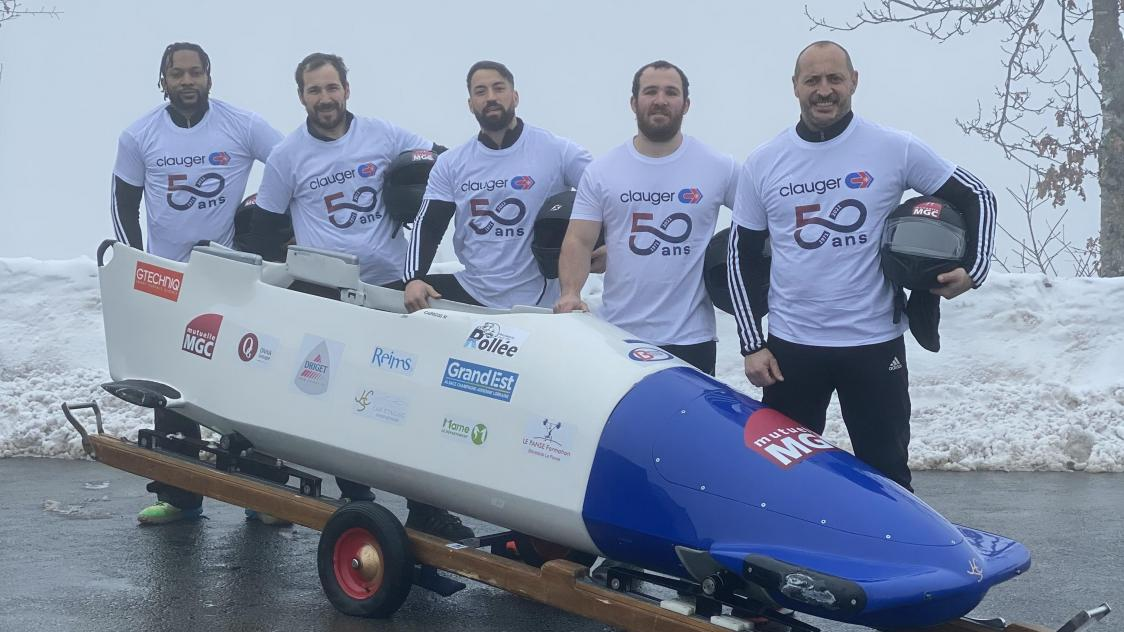Bobsleigh: (97, 241, 1036, 626)
